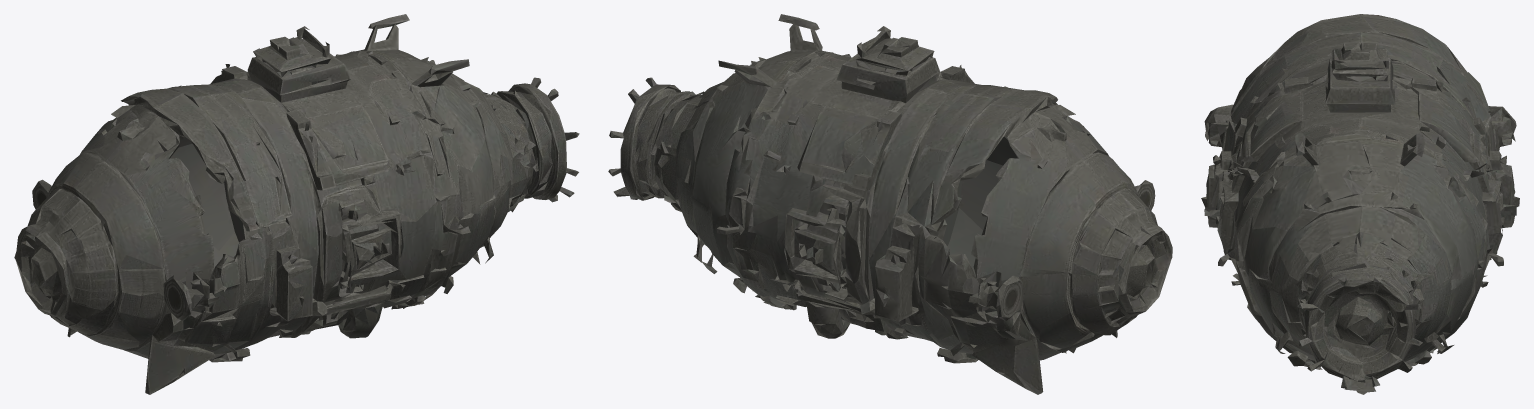
The model's file is meridian_freighter.glb.
3 renders of one model, left to right at view 1: azimuth 30°, elevation 25°; view 2: azimuth 150°, elevation 25°; view 3: azimuth 270°, elevation 25°, orthographic.
Bounding box in the file's own units: 30.44 × 16 × 16.31.
1 material, 1 textured.
